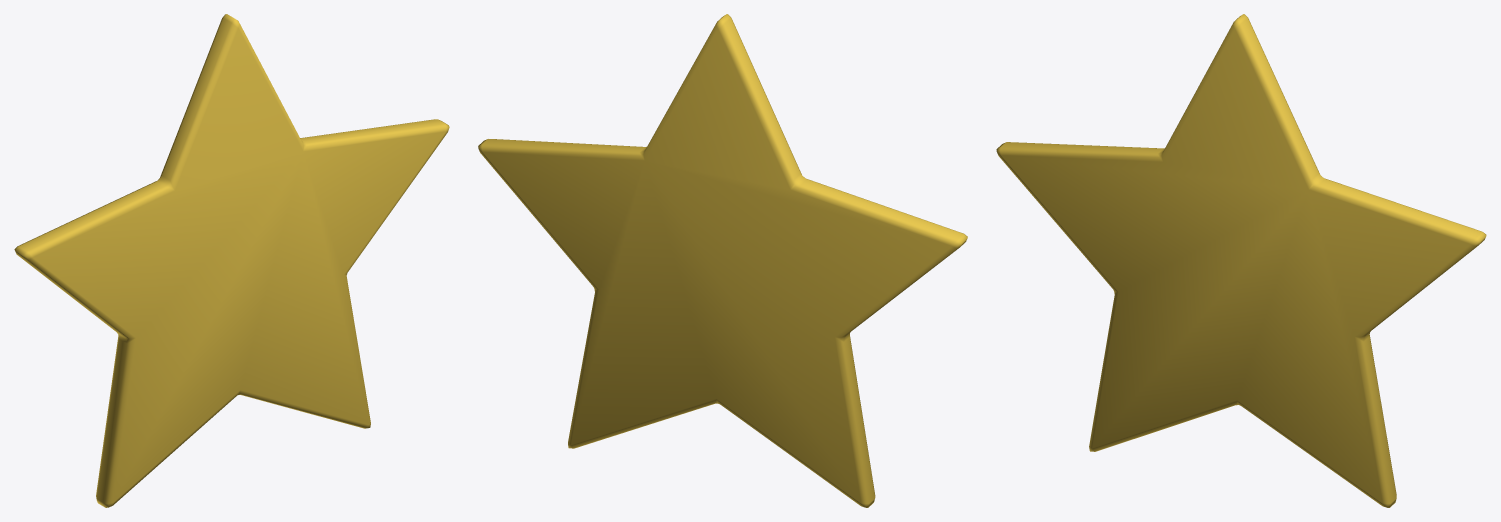
Rendered from Star.fbx.
The picture shows the model from 3 angles, left to right: view 1: azimuth 30°, elevation 25°; view 2: azimuth 150°, elevation 25°; view 3: azimuth 330°, elevation 25°; orthographic projection. The views are drawn at different scales.
Visible parts, largest first — view 1: Circle; view 2: Circle; view 3: Circle.
Part boxes in pixels (x1,y1,x2,y2): Circle: (14,14,449,507); Circle: (478,14,967,507); Circle: (996,14,1486,507).
Bounding box in the file's own units: 96.61 × 92.22 × 13.27.
